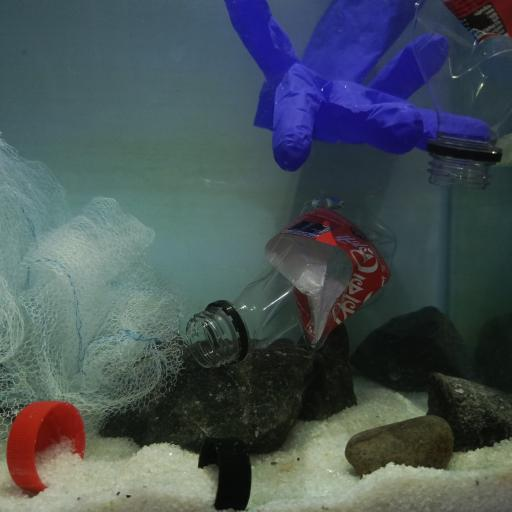bottle_cap: (8, 402, 85, 495), (198, 439, 252, 512)
glove: (224, 1, 495, 170)
net: (1, 130, 196, 438)
plastic_bottle: (185, 192, 397, 367), (411, 0, 512, 192)
